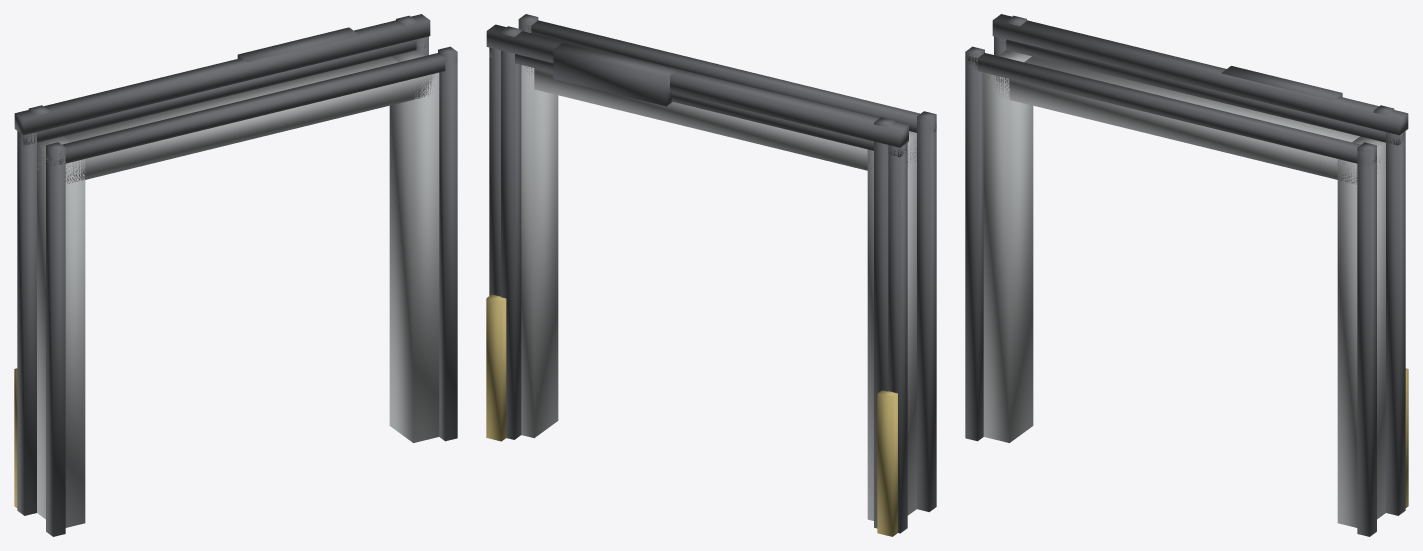
The model's file is bay_opening_loading_bay_w240_h240_d30.glb.
The picture shows the model from 3 angles, left to right: view 1: azimuth 30°, elevation 25°; view 2: azimuth 150°, elevation 25°; view 3: azimuth 330°, elevation 25°; orthographic projection.
Parts seen in each view (by area): view 1: world; view 2: world; view 3: world.
Boxes of the visible parts, <box> form: world: <box>14,14,457,536</box>; world: <box>486,14,936,536</box>; world: <box>965,14,1408,536</box>.
Size of the model in its own units: 2.98 by 2.79 by 0.522.
